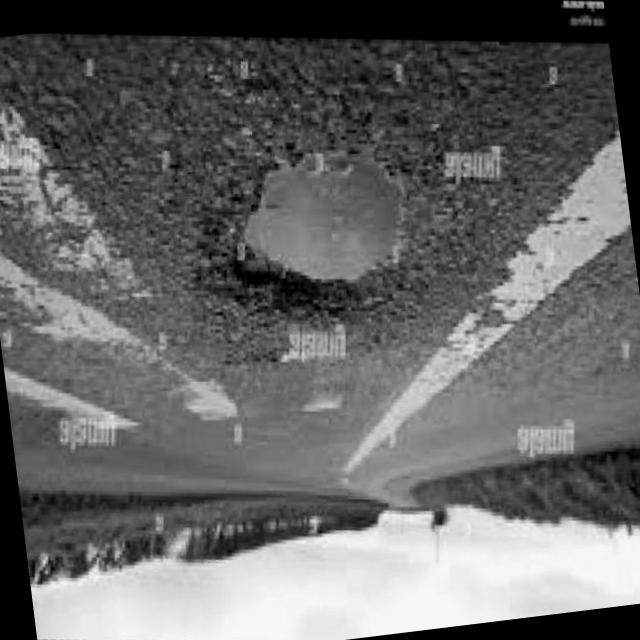Pathole: (240, 147, 402, 282)
